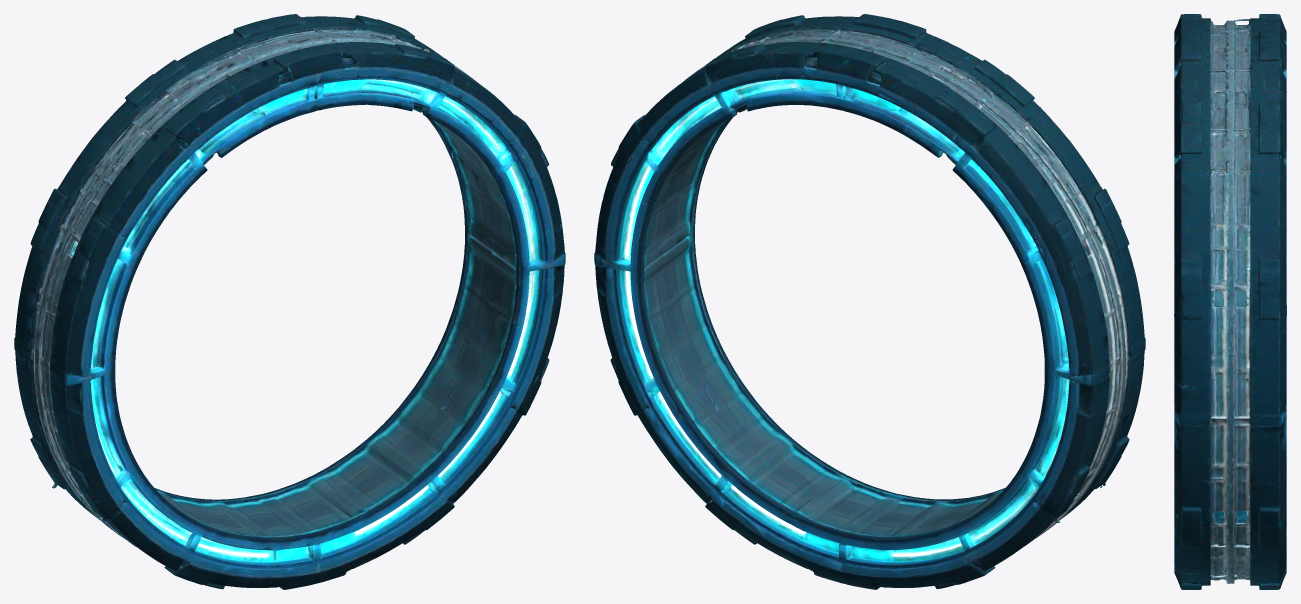
Rendered from canopy_ring_mobile.glb.
3 renders of one model, left to right at view 1: azimuth 30°, elevation 25°; view 2: azimuth 150°, elevation 25°; view 3: azimuth 270°, elevation 25°, orthographic.
Size of the model in its own units: 1.9 by 1.89 by 0.3702.
1 material, 1 textured.
